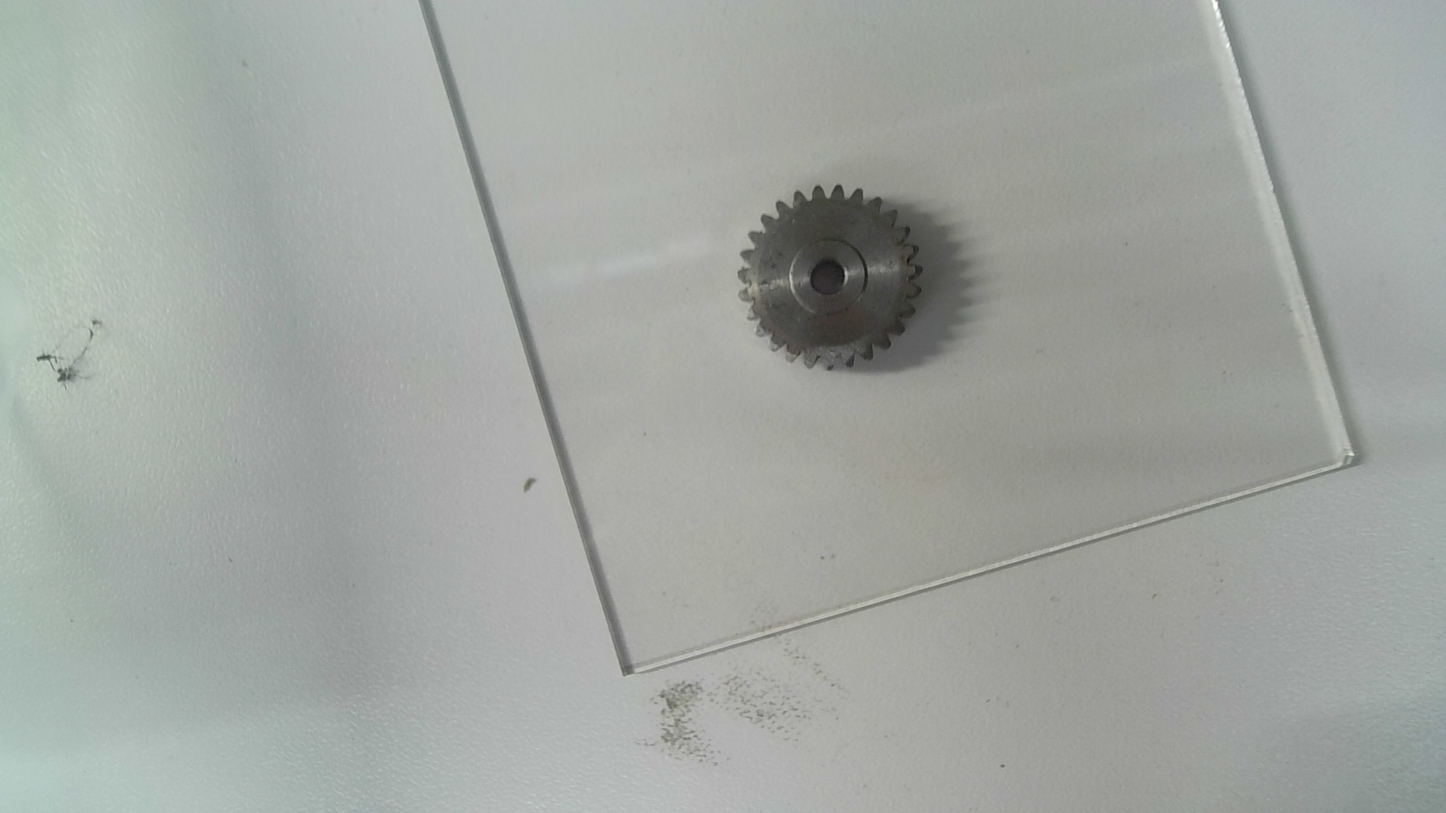gear: (735, 181, 925, 378)
